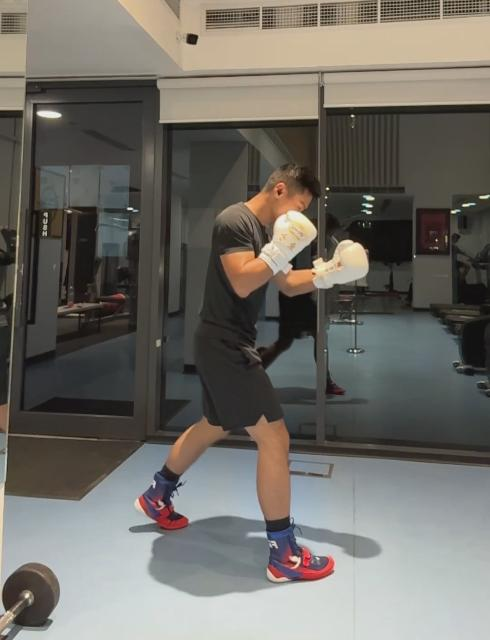punch: (136, 164, 372, 586)
